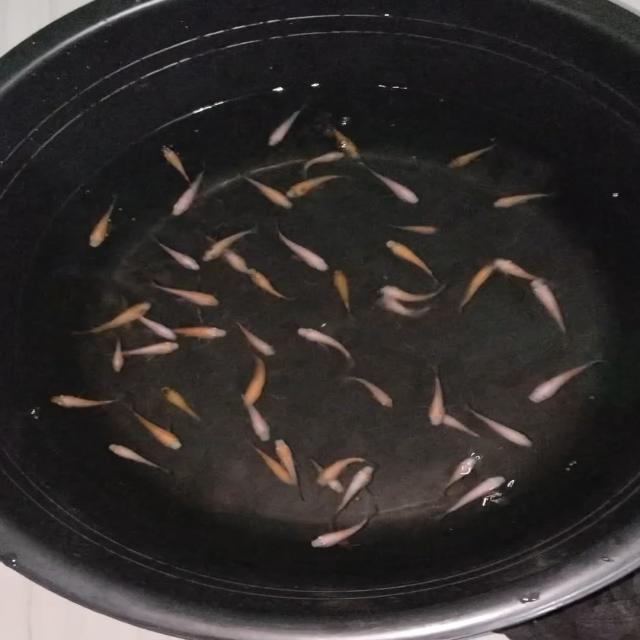nila: (434, 472, 514, 524), (70, 296, 156, 341), (526, 356, 602, 406), (328, 458, 384, 518), (304, 506, 380, 550), (272, 223, 334, 275), (197, 222, 268, 266), (466, 404, 534, 448), (530, 274, 574, 340), (129, 404, 186, 454), (383, 237, 443, 284), (292, 326, 360, 366), (147, 278, 225, 310), (240, 262, 296, 305), (200, 227, 250, 275), (247, 438, 295, 488), (365, 165, 423, 205), (342, 372, 398, 412), (106, 442, 174, 474), (264, 100, 307, 150), (313, 454, 374, 488), (170, 164, 208, 218), (274, 436, 306, 499), (158, 382, 207, 423), (236, 392, 274, 444), (152, 235, 204, 272), (493, 255, 557, 285), (243, 173, 294, 210), (437, 452, 477, 498), (284, 170, 348, 198), (88, 192, 118, 251), (304, 454, 346, 496), (378, 292, 436, 322), (329, 267, 359, 324), (461, 262, 496, 310), (236, 320, 278, 360), (240, 352, 270, 405), (130, 310, 178, 343), (330, 122, 366, 164), (47, 392, 126, 411), (446, 140, 495, 170), (492, 190, 558, 212), (300, 148, 348, 178), (426, 368, 450, 428), (112, 338, 186, 357), (162, 144, 194, 187), (437, 410, 482, 440), (380, 282, 450, 300), (169, 326, 230, 342), (390, 220, 442, 236), (110, 338, 125, 377)
